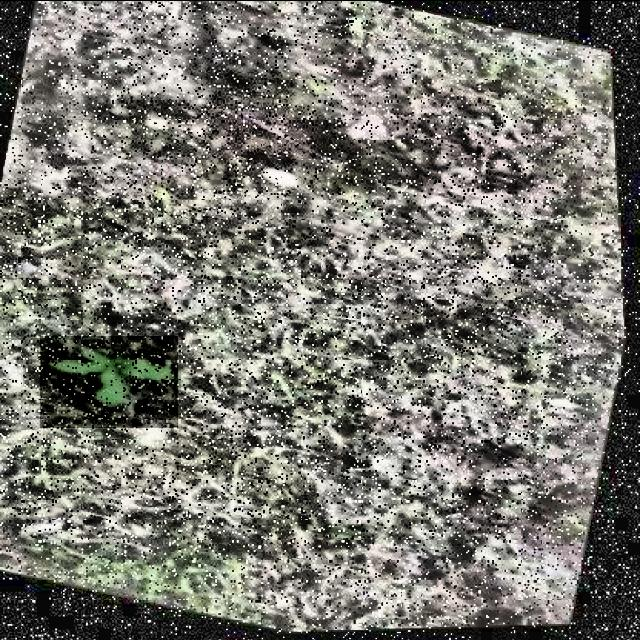Weeds: (40, 335, 178, 427)
